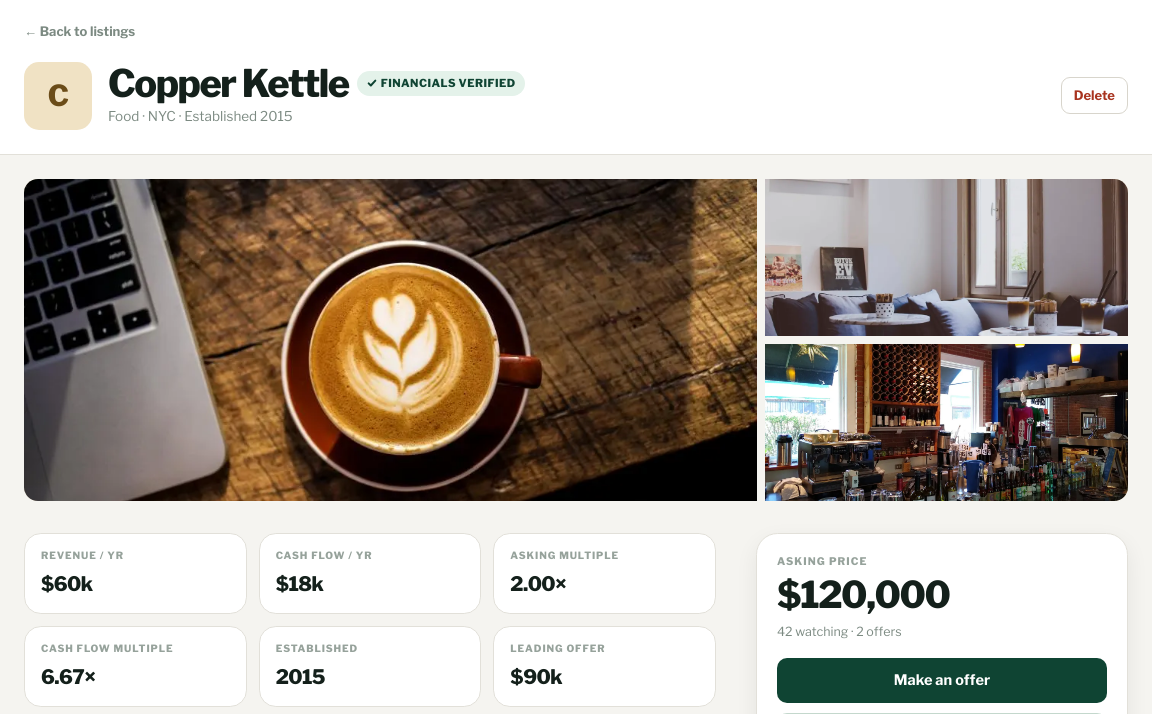
it: ListingDetail › make an offer › shows how the typed offer reads against the ask
The image size is (1152, 714).
Expected: the heading "Copper Kettle" is shown, [108,64,349,102]
Click the button "Make an offer": (942, 680) [777,658,1107,703]
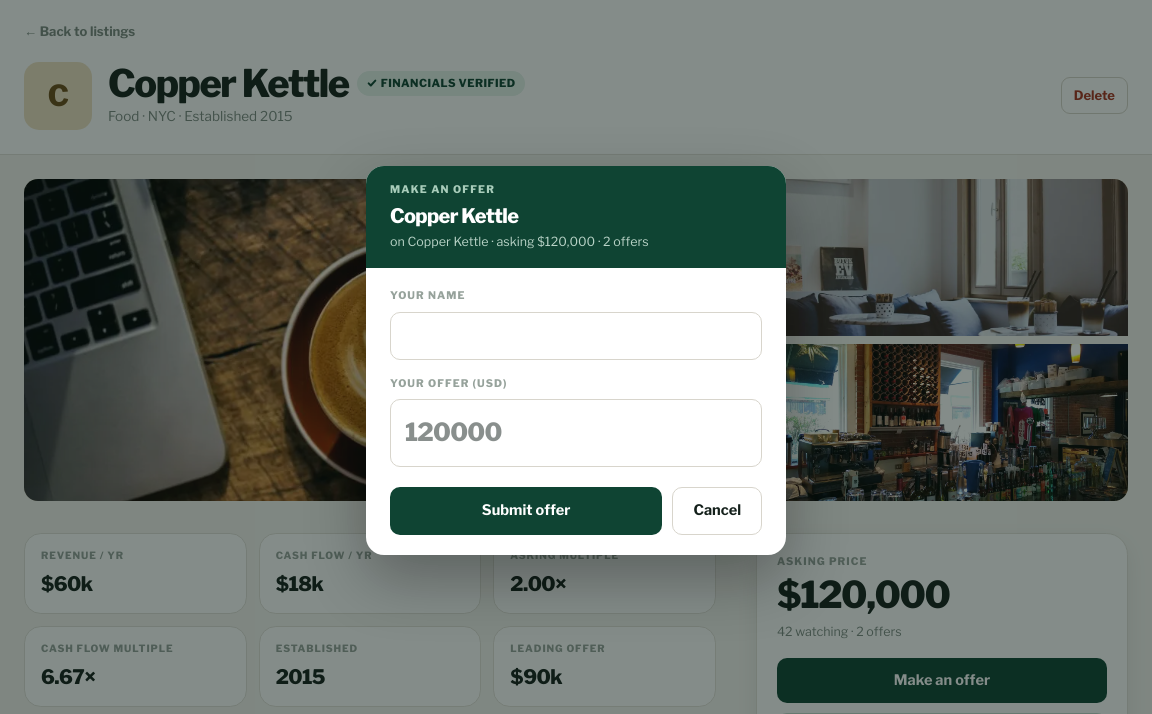
In the number field labelled "Your offer (USD)": (576, 433) [390,399,762,467], type "99000"
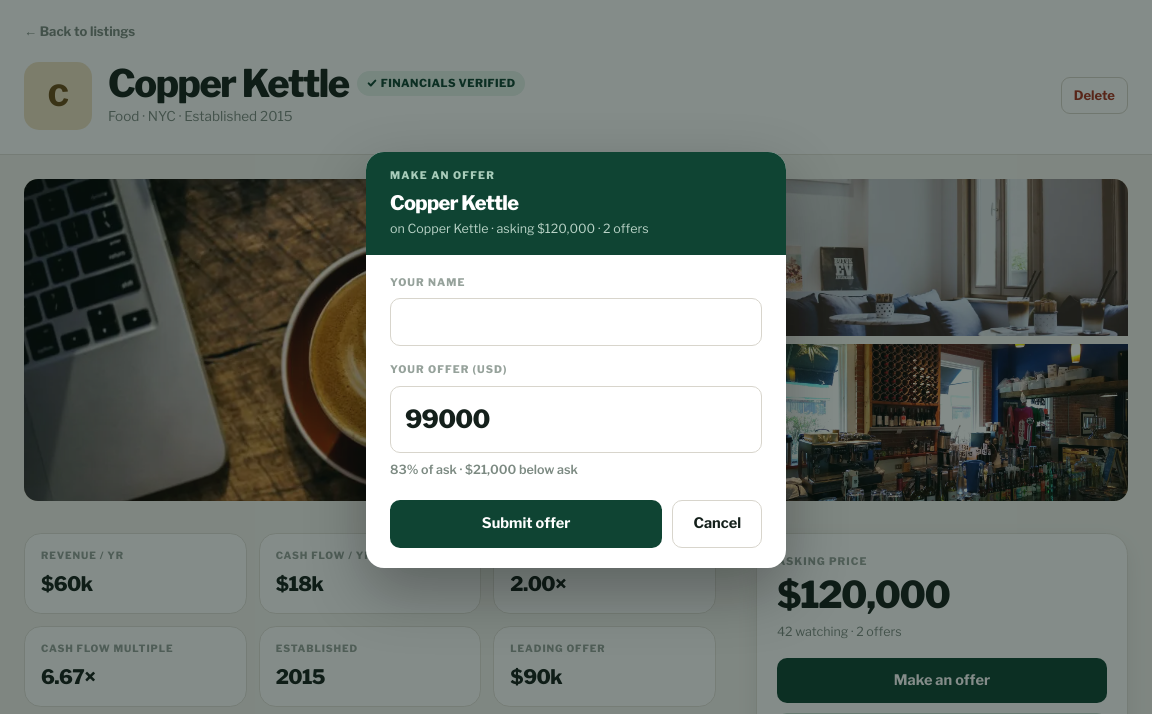
Now the text "83% of ask · $21,000 below ask" is shown, box [390,462,578,477]
